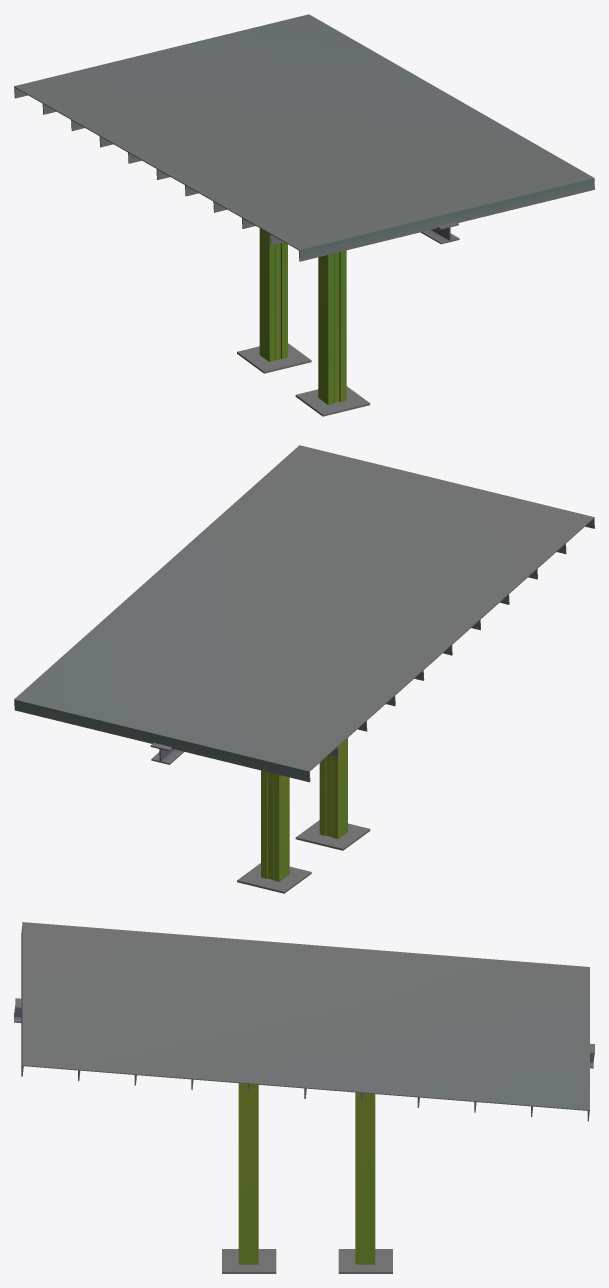
3 renders of one model, top to bottom at view 1: azimuth 30°, elevation 25°; view 2: azimuth 150°, elevation 25°; view 3: azimuth 270°, elevation 25°, orthographic.
Parts seen in each view (by area): view 1: skin, flange.001, flange, edge_steps.001, footplate.001, footplate; view 2: skin, edge_steps.011, flange, flange.001, footplate.001, footplate; view 3: skin, flange.001, flange, footplate.001, footplate.
Boxes of the visible parts, x1=… form: skin: x1=14, y1=14, x2=594, y2=250; flange.001: x1=318, y1=250, x2=346, y2=404; flange: x1=259, y1=228, x2=287, y2=362; edge_steps.001: x1=298, y1=179, x2=594, y2=261; footplate.001: x1=295, y1=386, x2=370, y2=416; footplate: x1=237, y1=343, x2=311, y2=373; skin: x1=14, y1=445, x2=594, y2=771; edge_steps.011: x1=14, y1=700, x2=310, y2=782; flange: x1=261, y1=770, x2=289, y2=881; flange.001: x1=319, y1=738, x2=347, y2=838; footplate.001: x1=295, y1=820, x2=370, y2=850; footplate: x1=237, y1=863, x2=311, y2=893; skin: x1=22, y1=922, x2=589, y2=1110; flange.001: x1=238, y1=1083, x2=258, y2=1264; flange: x1=355, y1=1092, x2=375, y2=1264; footplate.001: x1=222, y1=1249, x2=276, y2=1273; footplate: x1=338, y1=1249, x2=392, y2=1273.
Size of the model in its own units: 3.49 by 3.06 by 5.98.
